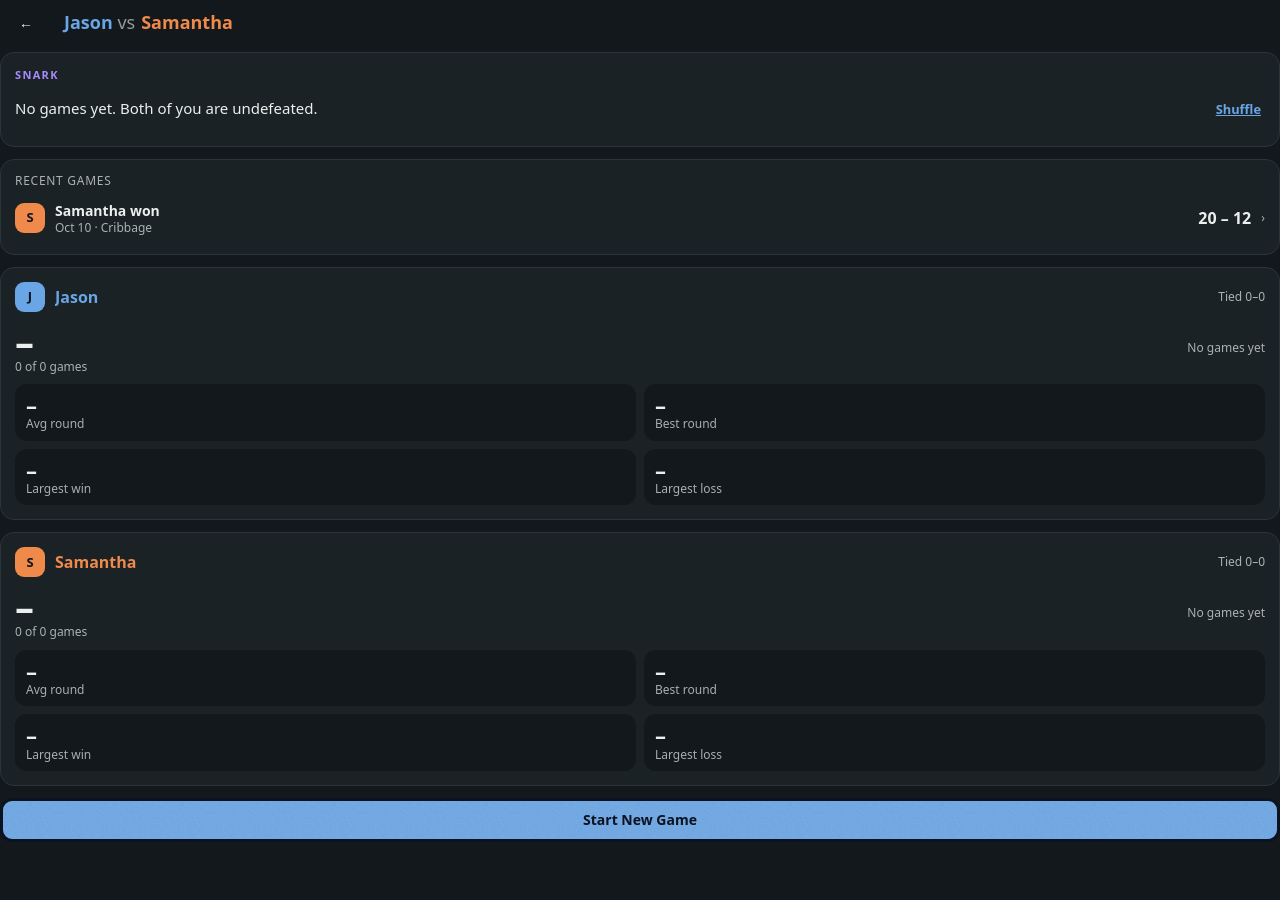
Scenario: Recent games history › opens a read-only Score History for a tapped recent game
The image size is (1280, 900).
Click the button with aria-label "Score history, Samantha won". click: (91, 210)
box: [15, 196, 1265, 240]
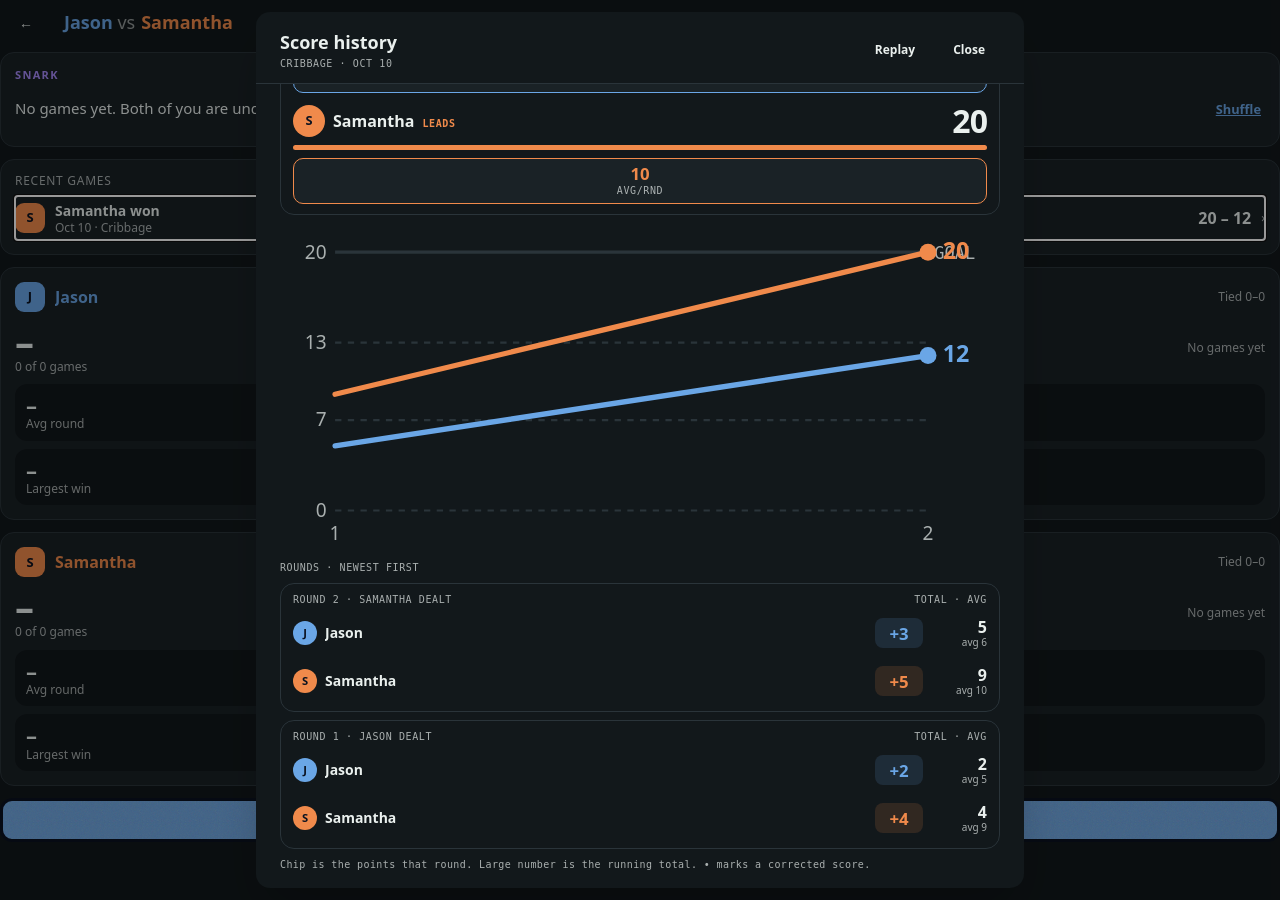
Check: the number of elements with test id "round-card" is 2, box [280, 584, 1000, 712]; [280, 720, 1000, 850]
Check: the button with aria-label "Edit round" is disabled, box [293, 612, 987, 656]
